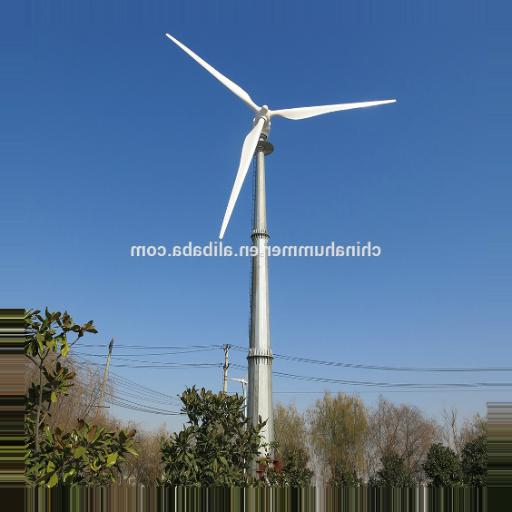wind turbine: (161, 32, 401, 432)
